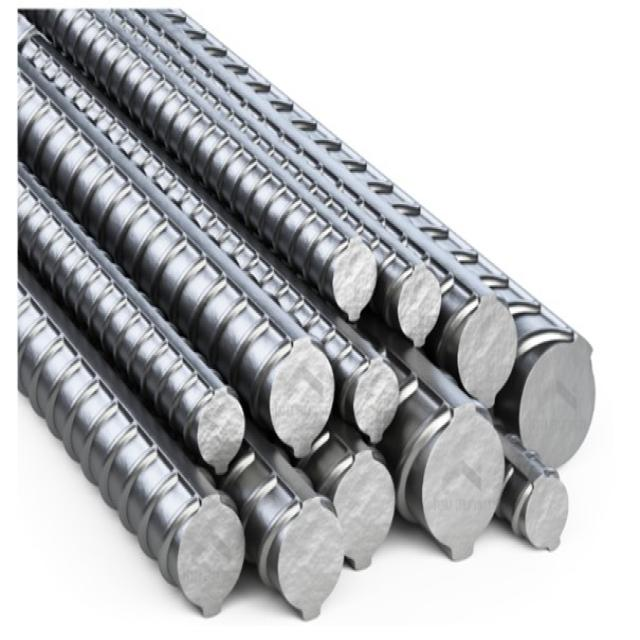Rebar: (420, 408, 508, 566), (522, 338, 606, 473), (277, 500, 349, 629), (176, 499, 246, 620), (333, 450, 400, 573), (457, 296, 521, 413), (273, 340, 337, 456), (197, 394, 247, 488), (399, 268, 445, 354), (354, 368, 404, 440), (526, 473, 568, 555), (334, 243, 378, 319)
